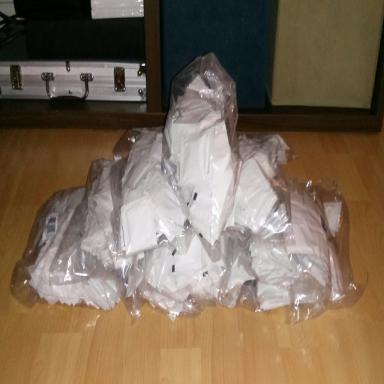plasticbag: (14, 51, 366, 323)
